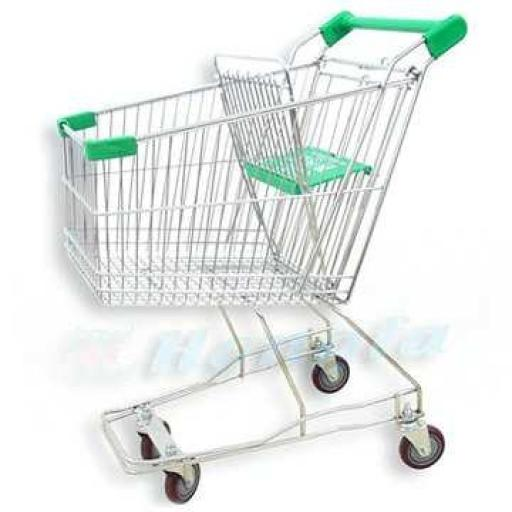shopping_cart: (55, 6, 476, 508)
